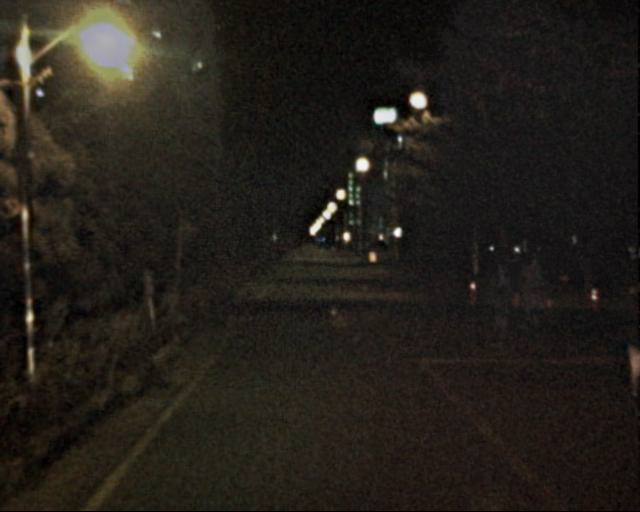person: (514, 245, 553, 340), (488, 257, 519, 333)
